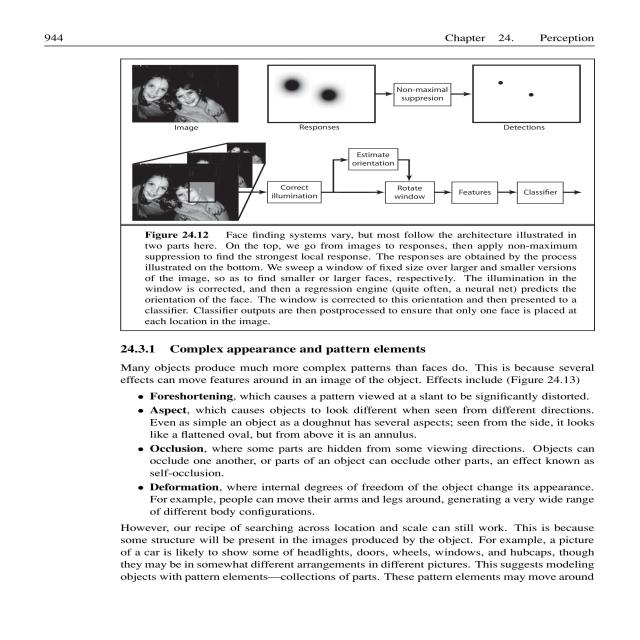diagram: (65, 52, 640, 336)
